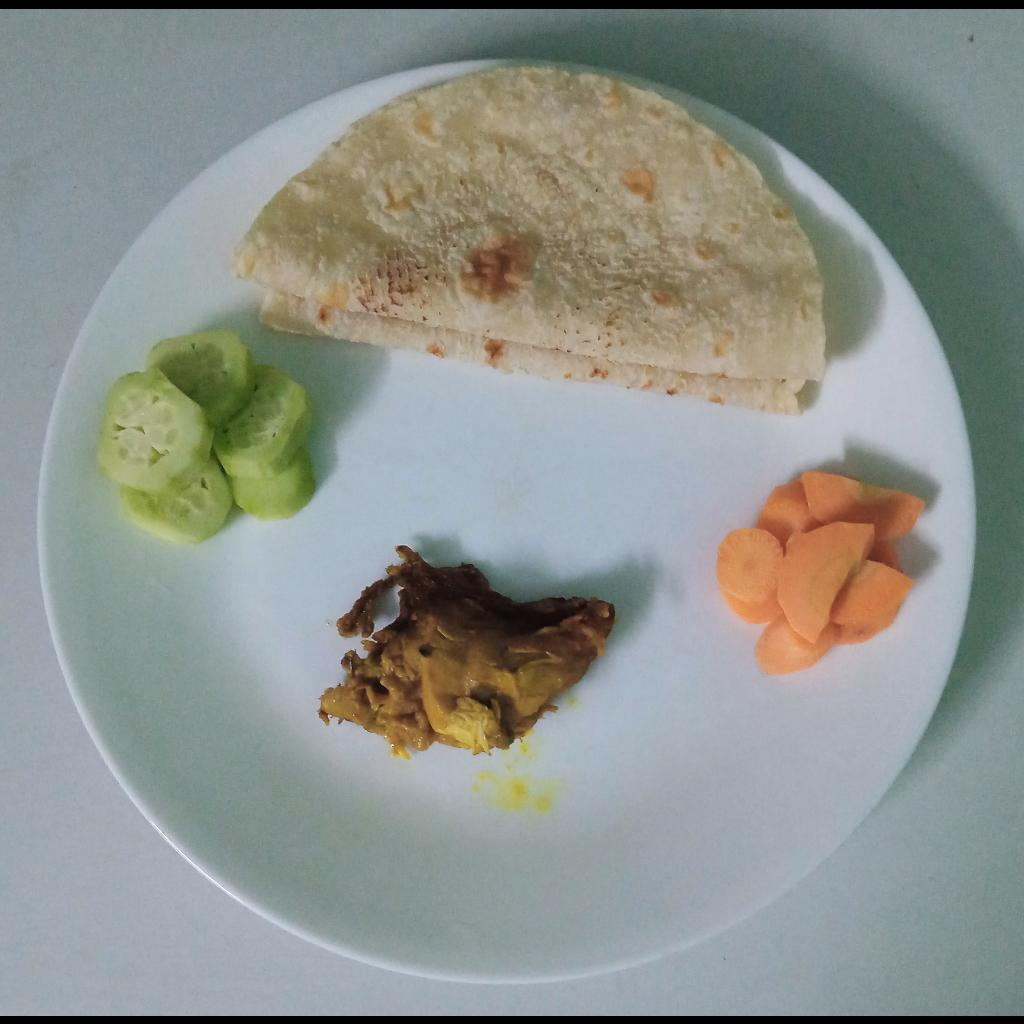carrot: (716, 470, 927, 674)
chicken: (317, 545, 615, 759)
cucumber: (93, 319, 317, 549)
ruti: (233, 64, 831, 413)
